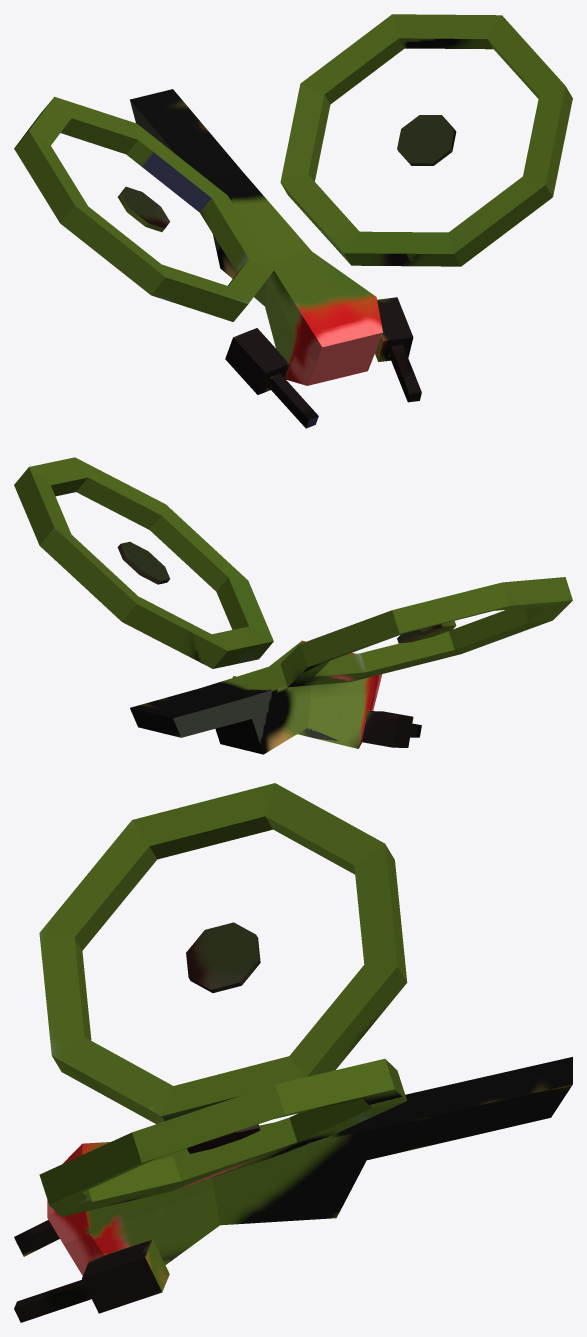
Rendered from FracturedFlyDrone.fbx.
The picture shows the model from 3 angles, top to bottom: view 1: azimuth 30°, elevation 25°; view 2: azimuth 150°, elevation 25°; view 3: azimuth 270°, elevation 25°; orthographic projection. The views are drawn at different scales.
Parts seen in each view (by area): view 1: left fly, main, right fly, Right gun, Left Gun, dot left, dot right; view 2: left fly, right fly, main, Right gun, dot left, dot right; view 3: right fly, main, left fly, Left Gun, dot right, Right gun.
Boxes of the visible parts, box(x1,y1,x2,y2) form: left fly: box(280, 14, 572, 266); main: box(130, 89, 382, 385); right fly: box(14, 96, 273, 321); Right gun: box(225, 328, 318, 428); Left Gun: box(375, 297, 421, 402); dot left: box(397, 115, 456, 165); dot right: box(117, 186, 169, 231); left fly: box(14, 457, 273, 668); right fly: box(280, 577, 572, 687); main: box(130, 640, 382, 754); Right gun: box(362, 711, 421, 747); dot left: box(117, 541, 169, 584); dot right: box(397, 621, 456, 643); right fly: box(39, 783, 407, 1124); main: box(47, 1057, 572, 1275); left fly: box(39, 1059, 406, 1216); Left Gun: box(14, 1239, 169, 1322); dot right: box(186, 922, 260, 992); Right gun: box(14, 1220, 59, 1256).
Bounding box in the file's own units: 661 × 333 × 478.
